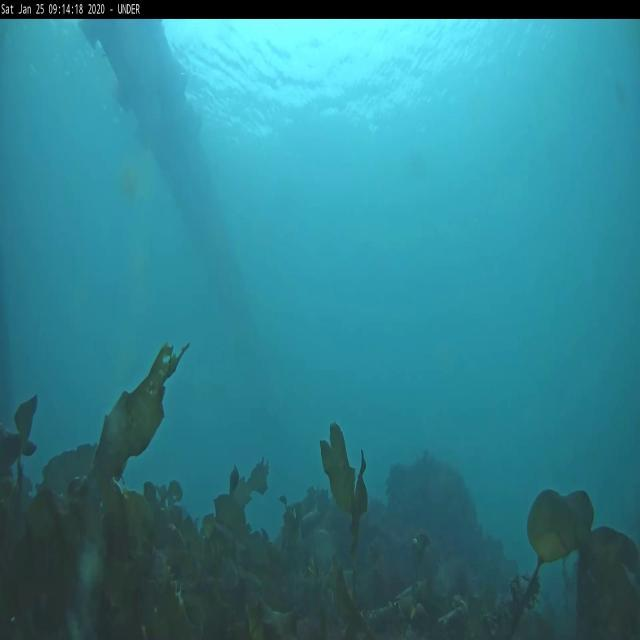fish: (228, 465, 240, 493)
